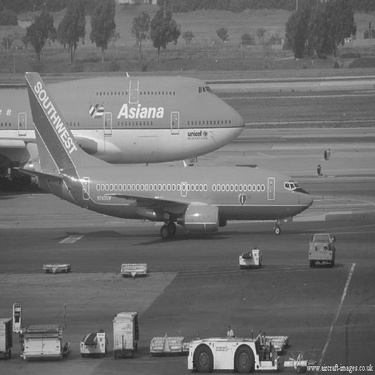airplane: (24, 68, 342, 224), (1, 49, 292, 150)
